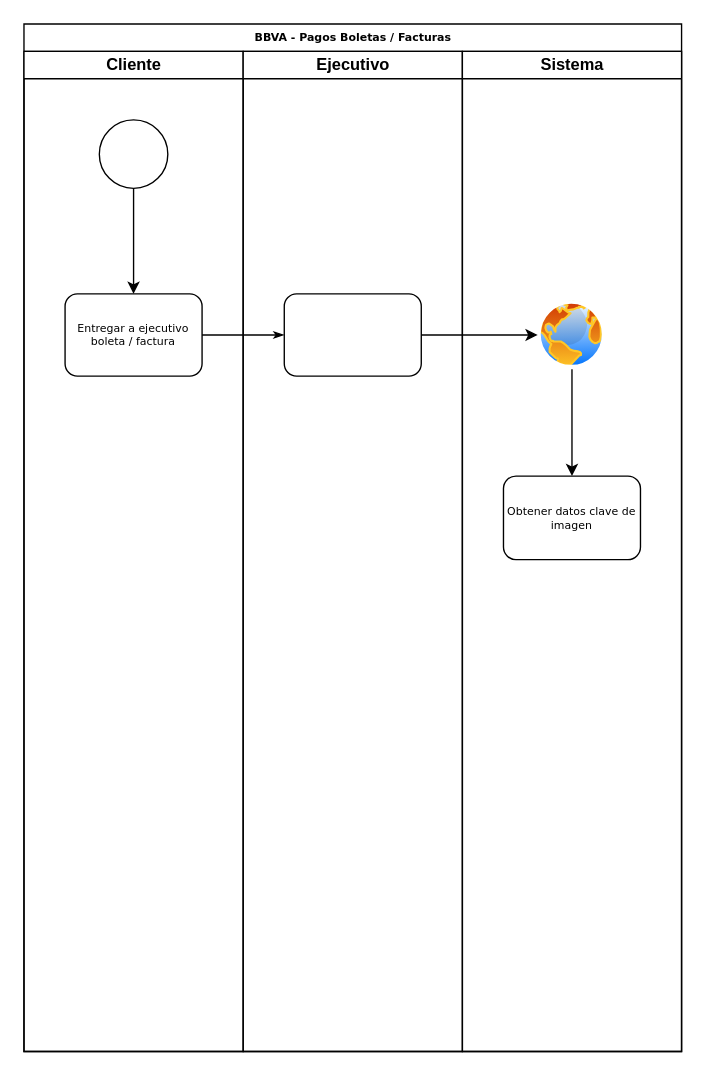
This 706x1075 diagram has some shape labels left out. The shapes that lost their labels are listed below. From the top down, each one's centre as x and y in pixels, then its label:
At point 133,153: "Inicio".
At point 352,334: "Obtener imagen de boleta / Factura".
At point 571,334: "HTTPS".
